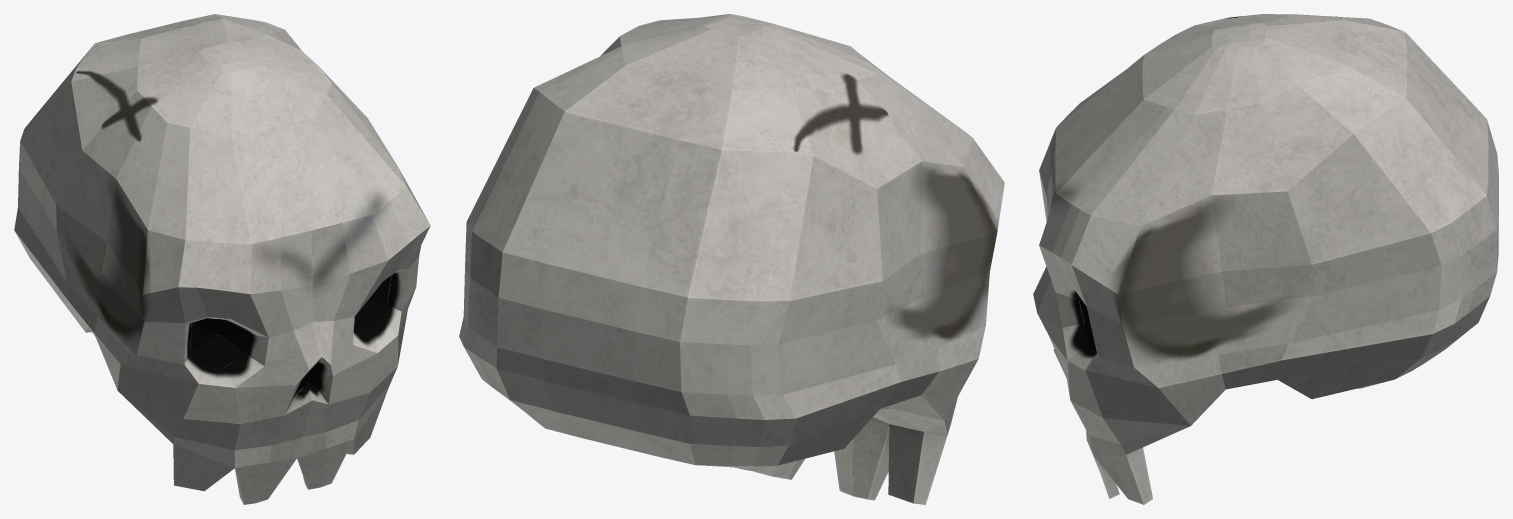
The model's file is skull.gltf.
3 renders of one model, left to right at view 1: azimuth 30°, elevation 25°; view 2: azimuth 150°, elevation 25°; view 3: azimuth 270°, elevation 25°, orthographic. The views are drawn at different scales.
Visible parts, largest first — view 1: Cube_Skul_0; view 2: Cube_Skul_0; view 3: Cube_Skul_0.
Part boxes in pixels (left/top/right/bottom): Cube_Skul_0: left=14, top=14, right=430, bottom=504; Cube_Skul_0: left=459, top=14, right=1004, bottom=504; Cube_Skul_0: left=1033, top=14, right=1498, bottom=504.
Bounding box in the file's own units: 1.97 × 2.58 × 2.45.
Materials: 1 (1 with a texture image).
